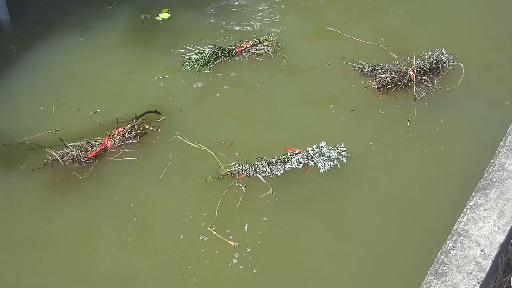leaf: (136, 3, 171, 22)
twig: (158, 132, 382, 209), (0, 102, 170, 189), (323, 27, 469, 118), (165, 36, 302, 66)
